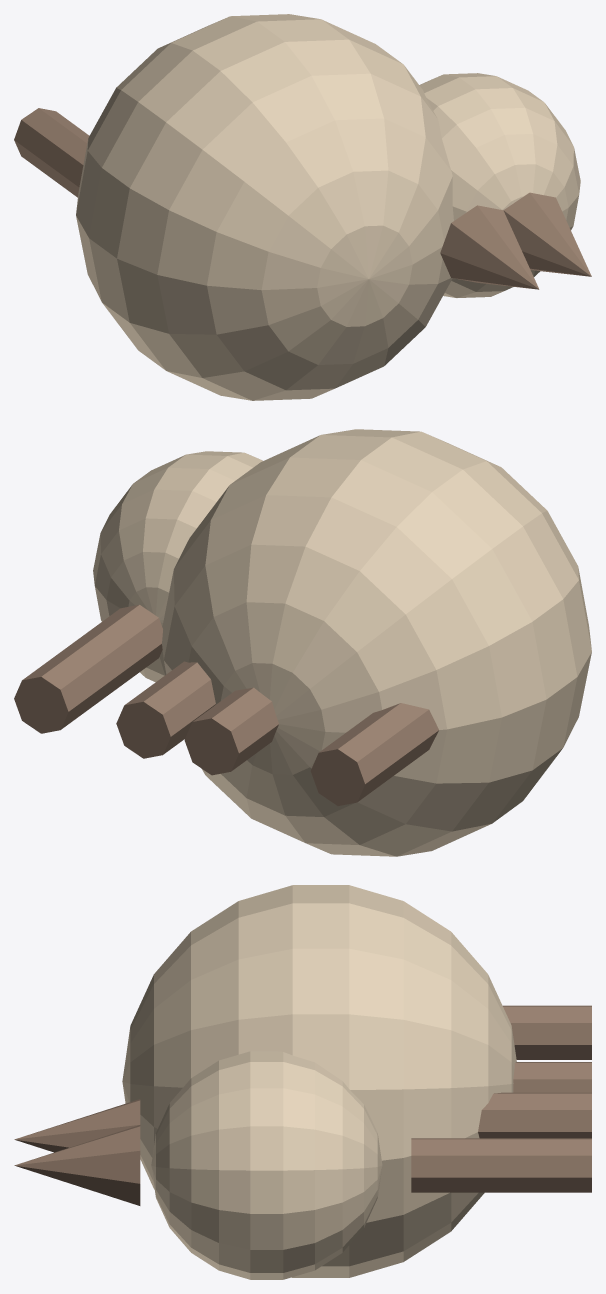
Rendered from Llama.glb.
The picture shows the model from 3 angles, top to bottom: view 1: azimuth 30°, elevation 25°; view 2: azimuth 150°, elevation 25°; view 3: azimuth 270°, elevation 25°; orthographic projection. The views are drawn at different scales.
Parts seen in each view (by area): view 1: body, head, ear2, ear, leg1; view 2: body, head, leg4, leg1, leg3, leg2; view 3: body, head, leg4, ear, leg3, leg1, ear2, leg2.
Part boxes in pixels (x1=…): body: x1=76, y1=14, x2=453, y2=400; head: x1=419, y1=73, x2=580, y2=297; ear2: x1=440, y1=205, x2=539, y2=289; ear: x1=503, y1=192, x2=591, y2=276; leg1: x1=14, y1=108, x2=89, y2=197; body: x1=162, y1=429, x2=591, y2=856; head: x1=93, y1=451, x2=262, y2=682; leg4: x1=14, y1=604, x2=162, y2=733; leg1: x1=310, y1=703, x2=438, y2=805; leg3: x1=116, y1=661, x2=215, y2=758; leg2: x1=184, y1=687, x2=278, y2=775; body: x1=122, y1=885, x2=516, y2=1277; head: x1=151, y1=1051, x2=382, y2=1279; leg4: x1=411, y1=1138, x2=591, y2=1192; ear: x1=14, y1=1125, x2=140, y2=1205; leg3: x1=478, y1=1092, x2=591, y2=1138; leg1: x1=503, y1=1005, x2=591, y2=1059; ear2: x1=14, y1=1099, x2=140, y2=1152; leg2: x1=513, y1=1062, x2=591, y2=1092.
Bounding box in the file's own units: 1.55 × 1.2 × 1.76.
